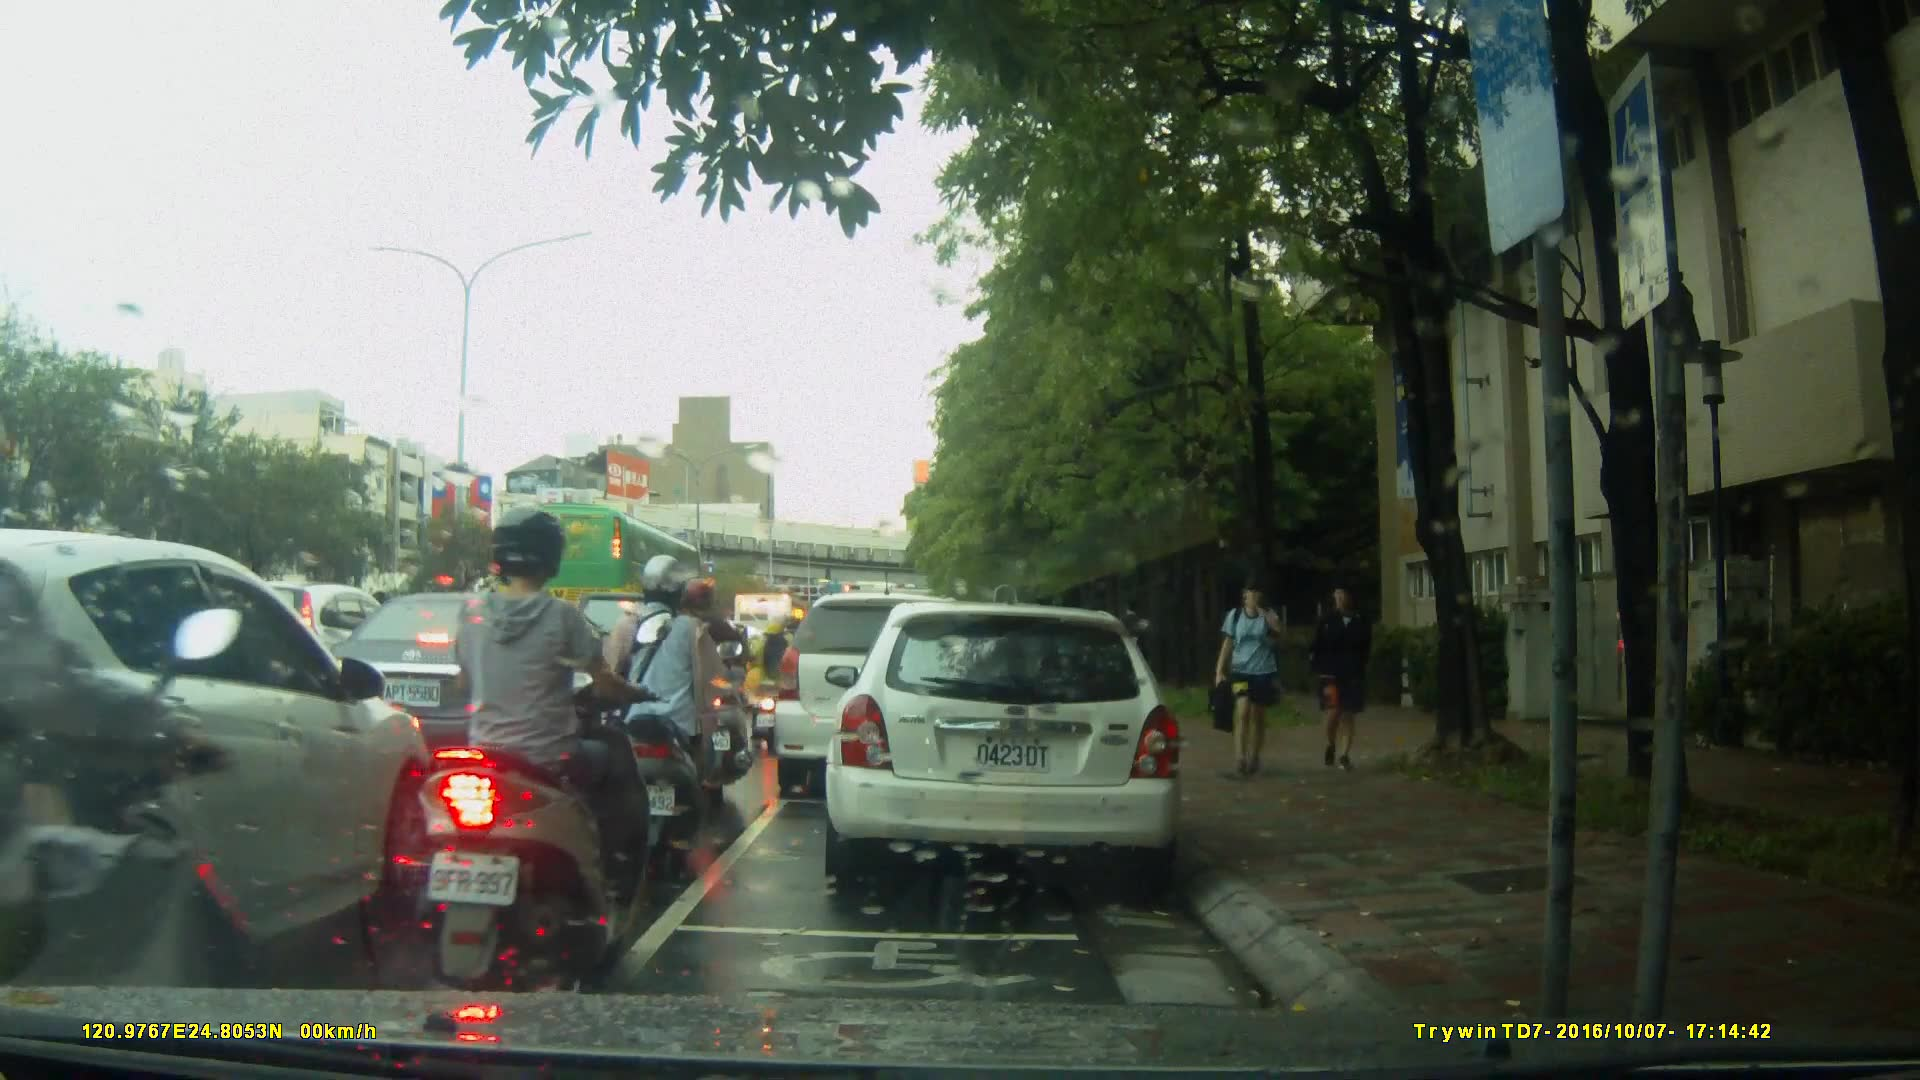pedestrian: (1198, 575, 1307, 781), (1309, 570, 1387, 776), (1122, 596, 1156, 690)
rider: (1, 406, 280, 1080), (426, 502, 647, 979), (606, 554, 722, 858), (674, 578, 758, 787), (752, 613, 807, 748)
vehicle: (1, 528, 447, 988), (831, 592, 1196, 897), (313, 590, 633, 804), (770, 591, 999, 803), (495, 500, 707, 636)
